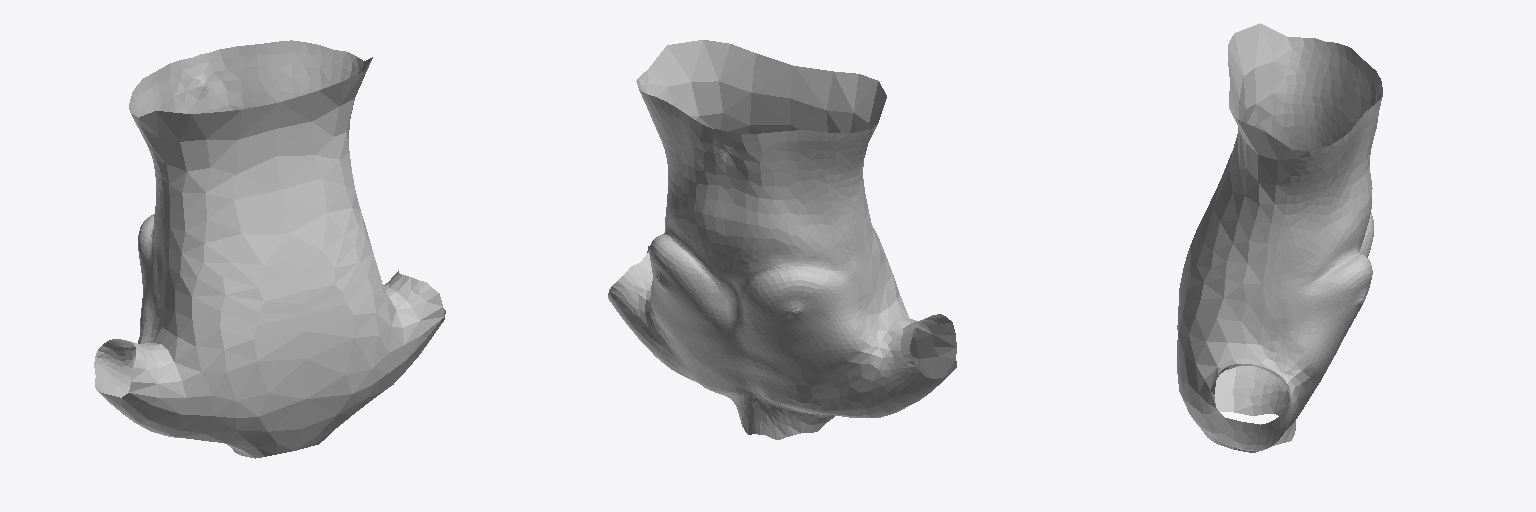
The model's file is completebody.obj.
3 views of the same model, side by side, from view 1: azimuth 30°, elevation 25°; view 2: azimuth 150°, elevation 25°; view 3: azimuth 270°, elevation 25° (orthographic).
Parts seen in each view (by area): view 1: completebody; view 2: completebody; view 3: completebody.
Boxes of the visible parts, x1=… form: completebody: x1=94, y1=40, x2=445, y2=458; completebody: x1=608, y1=40, x2=956, y2=439; completebody: x1=1177, y1=23, x2=1382, y2=452.
Size of the model in its own units: 49.84 by 49.82 by 25.94.